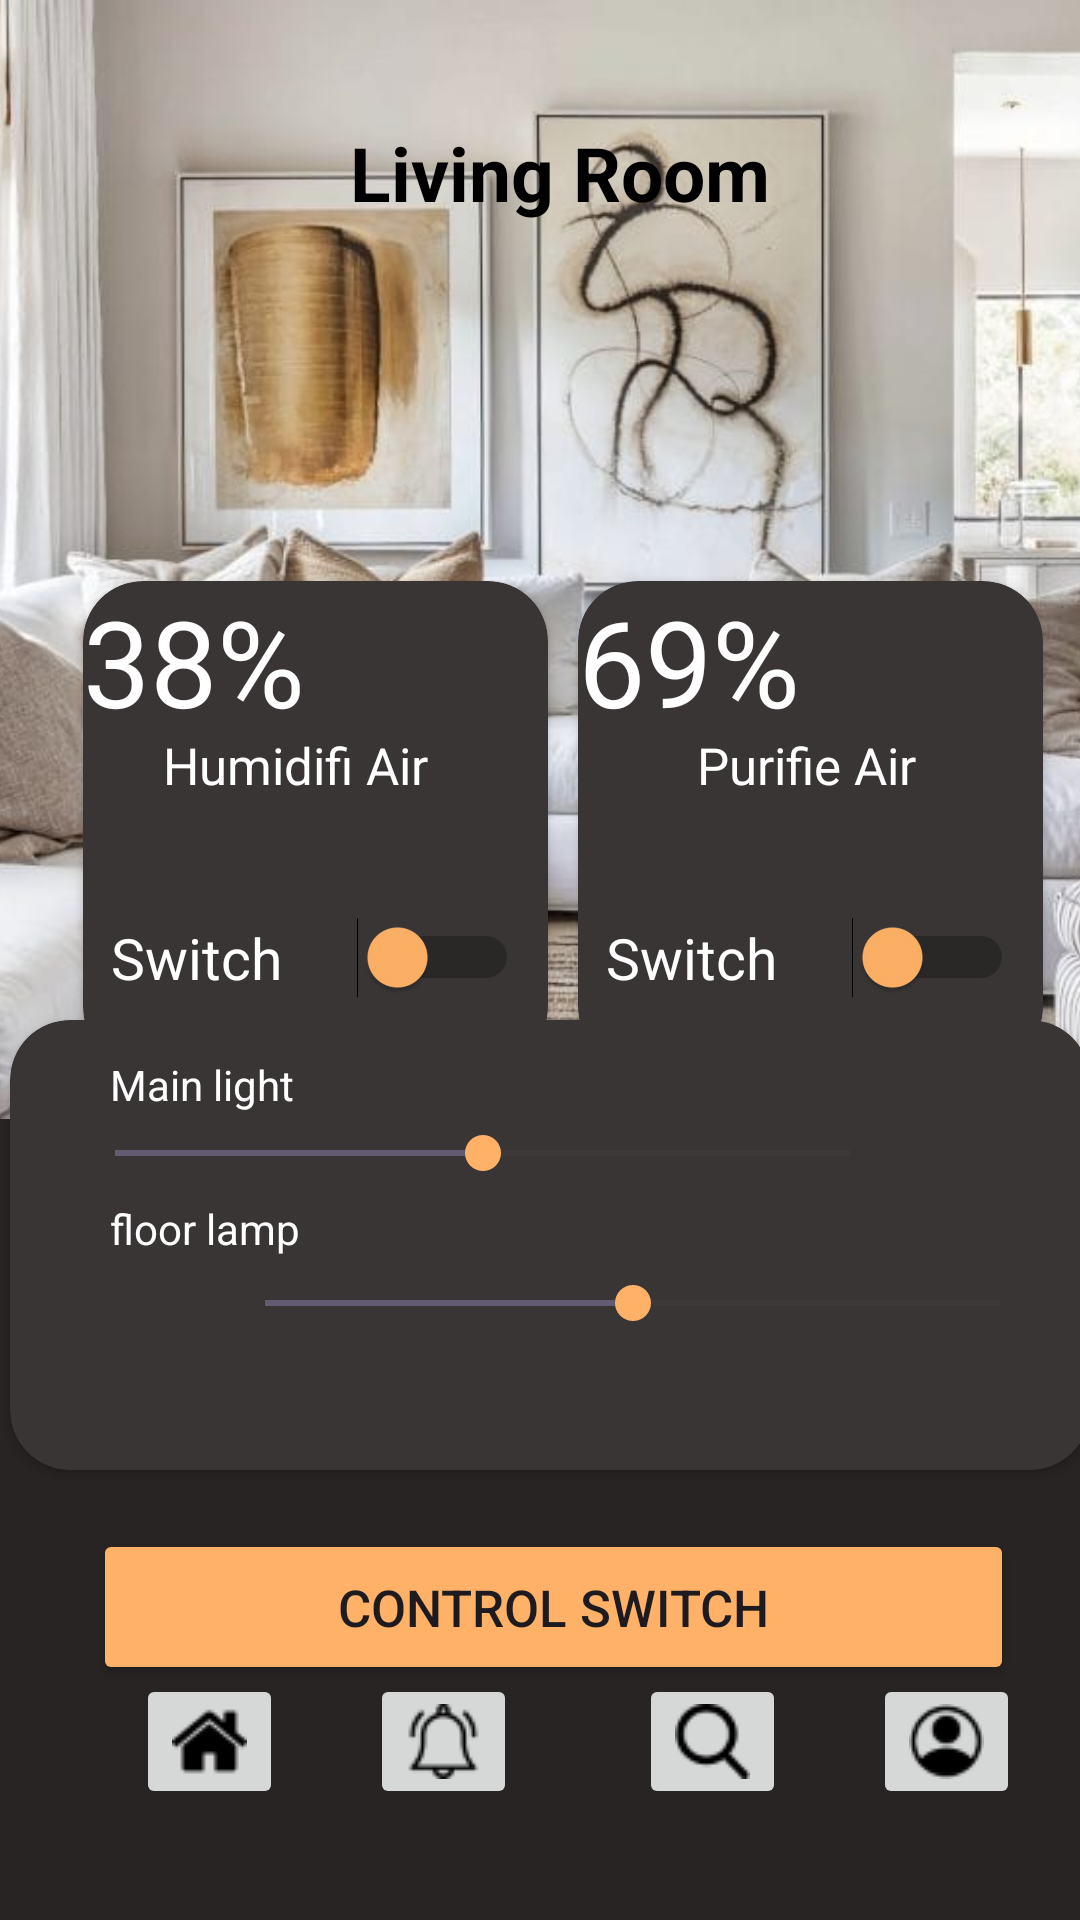

Icons on this 1080 x 1920 Android screen, each with its box as (x1, y1, x2, y2):
account: (885, 1692, 1008, 1791)
homenew: (148, 1692, 271, 1791)
notification: (382, 1692, 505, 1791)
search: (651, 1692, 774, 1791)
